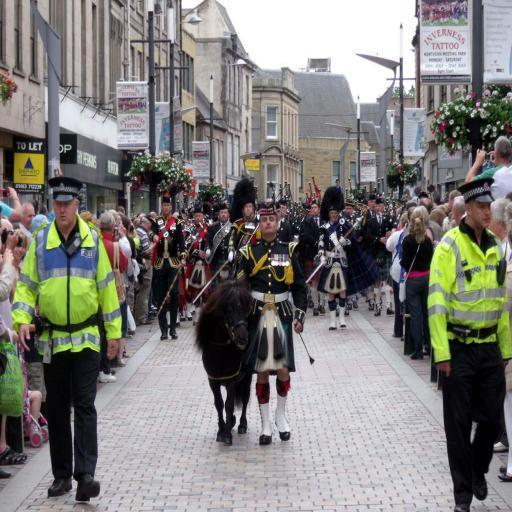horse: (196, 281, 260, 446)
